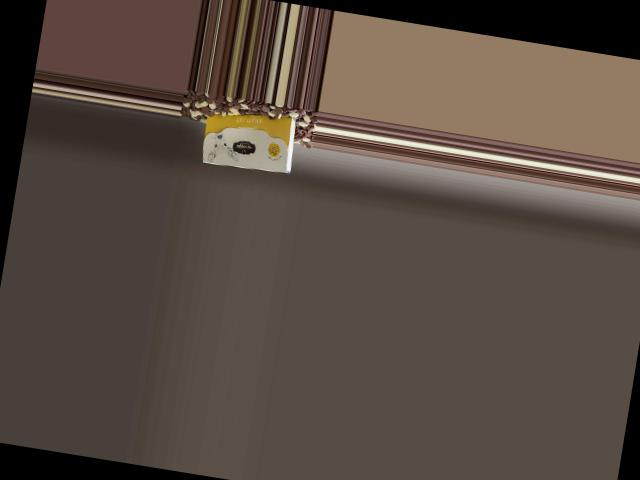chocolate: (193, 100, 303, 180)
